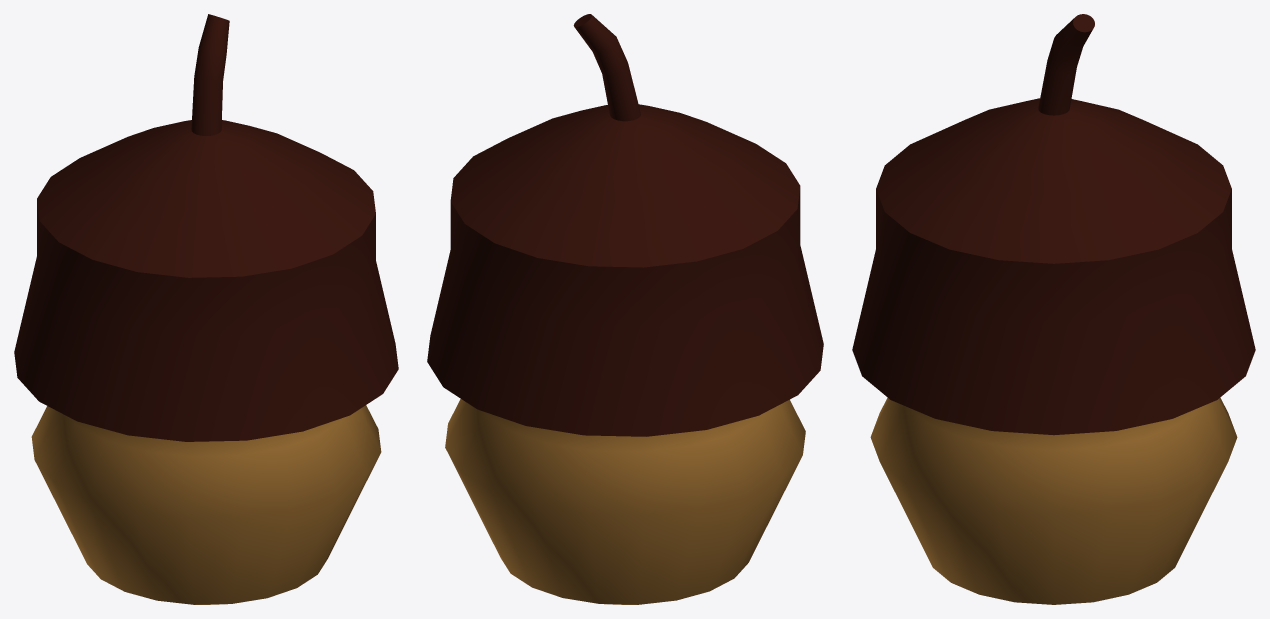
File: acorn.obj
The picture shows the model from 3 angles, left to right: view 1: azimuth 30°, elevation 25°; view 2: azimuth 150°, elevation 25°; view 3: azimuth 270°, elevation 25°; orthographic projection. The views are drawn at different scales.
Parts seen in each view (by area): view 1: acorn; view 2: acorn; view 3: acorn.
Boxes of the visible parts, x1=… form: acorn: x1=14, y1=14, x2=398, y2=604; acorn: x1=427, y1=14, x2=823, y2=604; acorn: x1=852, y1=14, x2=1255, y2=604.
Size of the model in its own units: 2.27 by 3.72 by 2.27.
